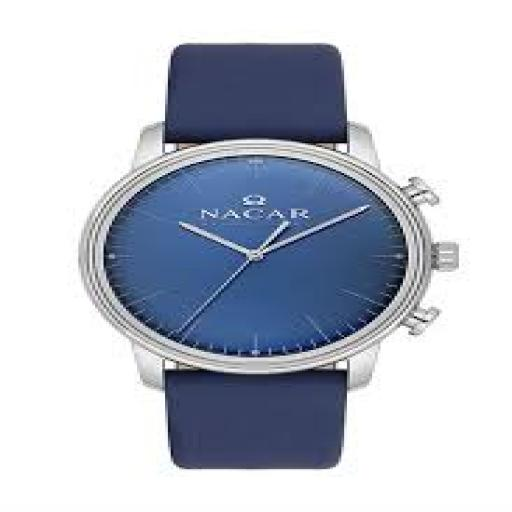KolSaati: (25, 24, 470, 472)
